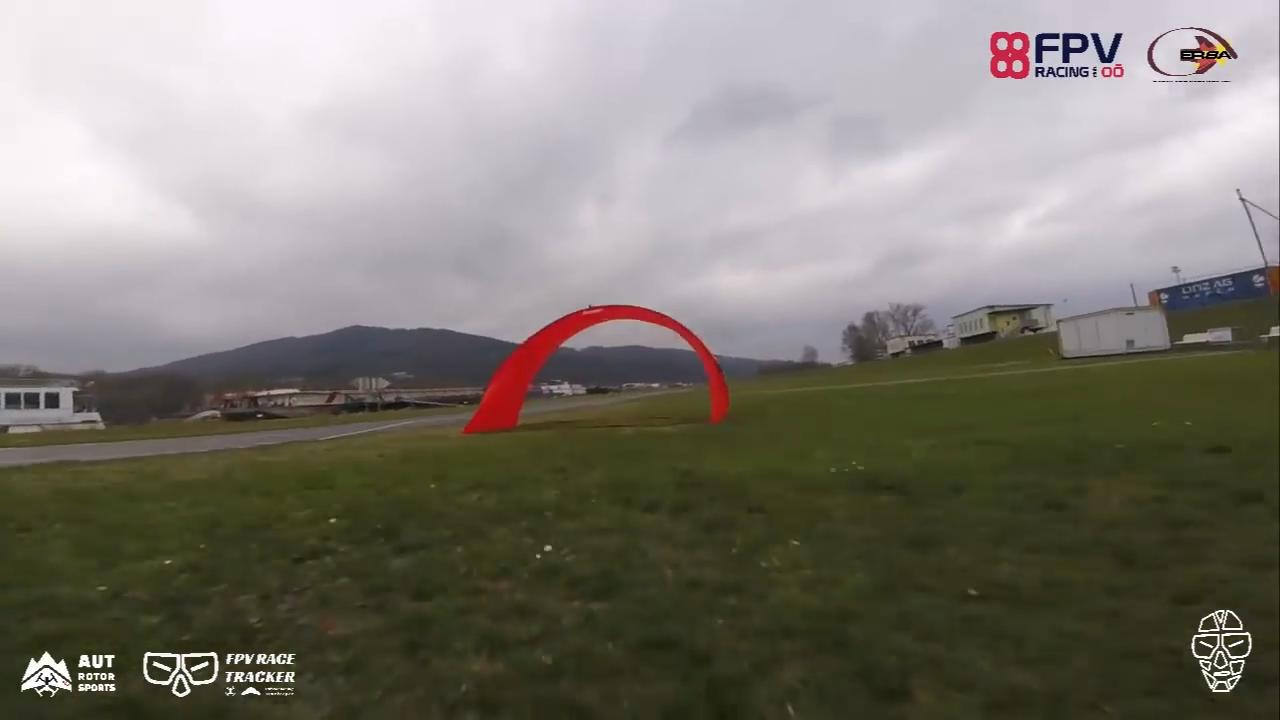gate: (463, 298, 735, 437)
